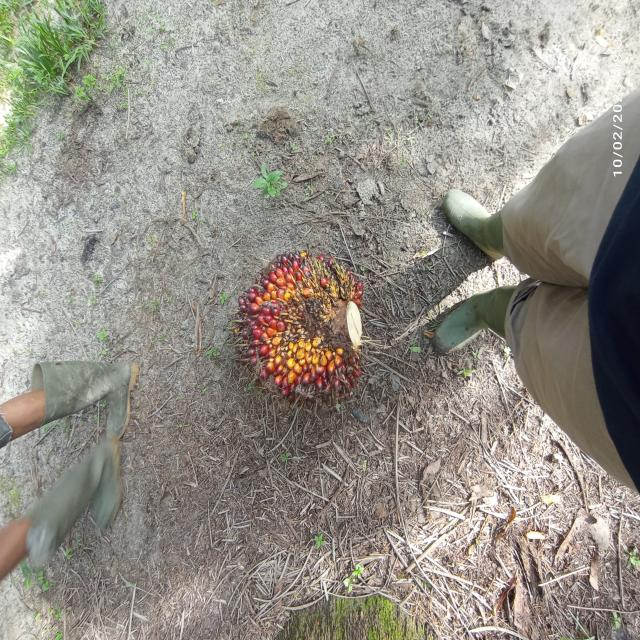fraksi 3: (196, 222, 424, 426)
